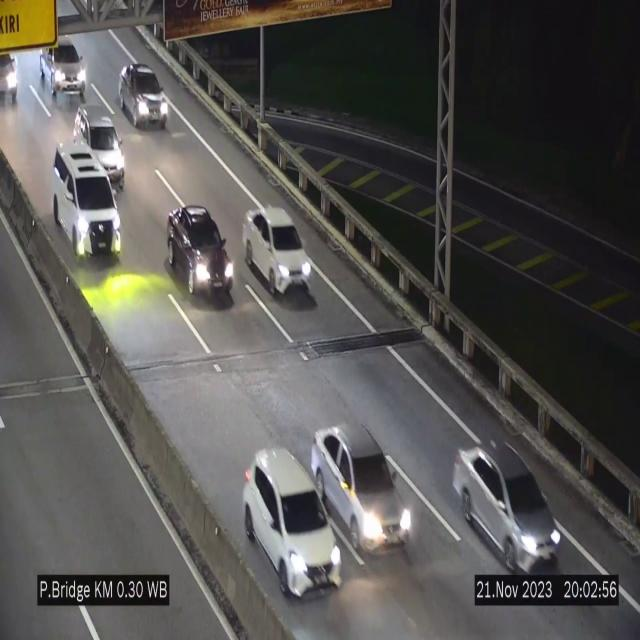Car: (452, 442, 562, 574), (311, 418, 415, 556), (243, 448, 341, 594), (50, 138, 122, 266), (165, 202, 236, 302), (241, 204, 313, 298), (70, 104, 126, 180), (42, 38, 94, 102), (119, 62, 168, 128)
